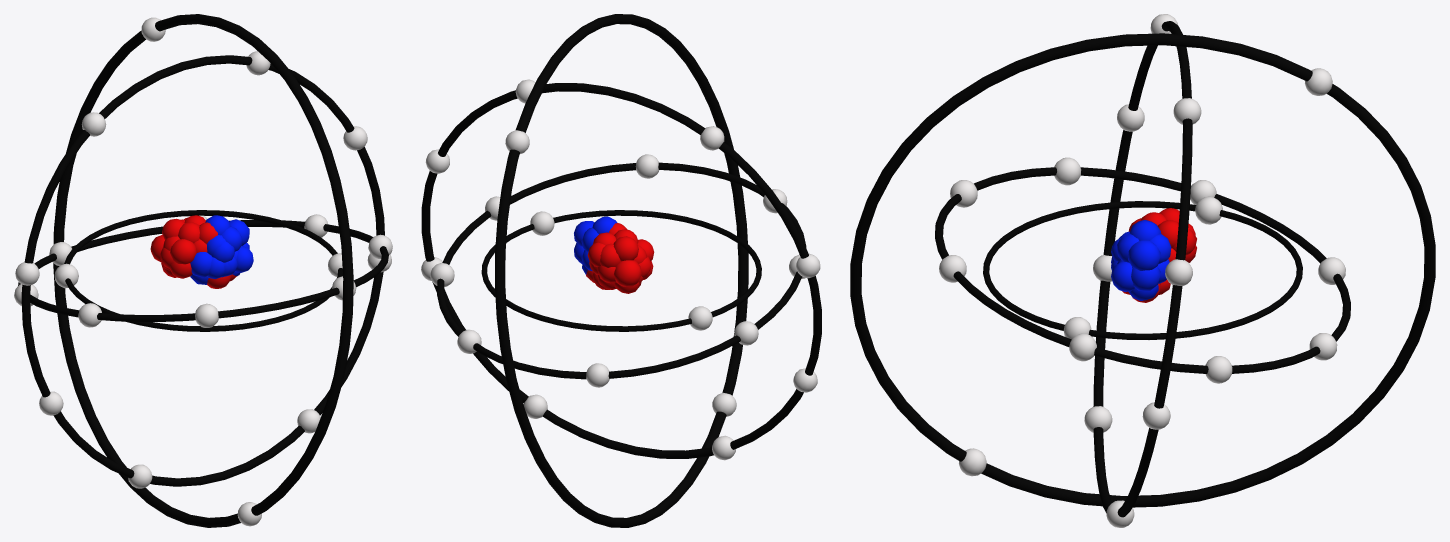
Rendered from 25 Manganeso.fbx.
The picture shows the model from 3 angles, left to right: view 1: azimuth 30°, elevation 25°; view 2: azimuth 150°, elevation 25°; view 3: azimuth 270°, elevation 25°; orthographic projection. The views are drawn at different scales.
Visible parts, largest first — view 1: Orbita.004, Orbita.003, Orbita.002, Orbita.001, Neutron.006, Neutron.001, Sphere.013, Neutron.004, Neutron.005, Electron.006, Electron.015, Electron.016 (+4 smaller); view 2: Orbita.004, Orbita.003, Orbita.002, Orbita.001, Neutron.005, Neutron.006, Sphere.008, Electron.016, Electron.008, Electron.007, Electron.001, Electron; view 3: Orbita.004, Orbita.003, Orbita.002, Orbita.001, Neutron.006, Neutron.003.
Part boxes in pixels (x1,y1,x2,y2): Orbita.004: (53,14,353,527); Orbita.003: (21,55,384,486); Orbita.002: (18,220,388,321); Orbita.001: (64,210,342,331); Neutron.006: (222,219,249,251); Neutron.001: (190,252,212,284); Sphere.013: (170,239,196,264); Neutron.004: (205,215,230,255); Neutron.005: (150,235,176,277); Electron.006: (195,303,218,327); Electron.015: (15,262,39,285); Electron.016: (81,112,106,136); Orbita.004: (495,14,748,527); Orbita.003: (421,83,821,458); Orbita.002: (437,162,806,379); Orbita.001: (481,210,761,331); Neutron.005: (614,256,651,293); Neutron.006: (574,221,598,252); Sphere.008: (613,236,638,261); Electron.016: (700,126,724,150); Electron.008: (586,363,609,387); Electron.007: (635,154,659,178); Electron.001: (530,211,554,235); Electron: (688,306,712,330); Orbita.004: (850,33,1435,507); Orbita.003: (1093,21,1192,517); Orbita.002: (935,167,1350,373); Orbita.001: (983,201,1302,339); Neutron.006: (1117,233,1171,270); Neutron.003: (1117,259,1169,300).
Size of the model in its own units: 14.17 by 12.27 by 13.91.
